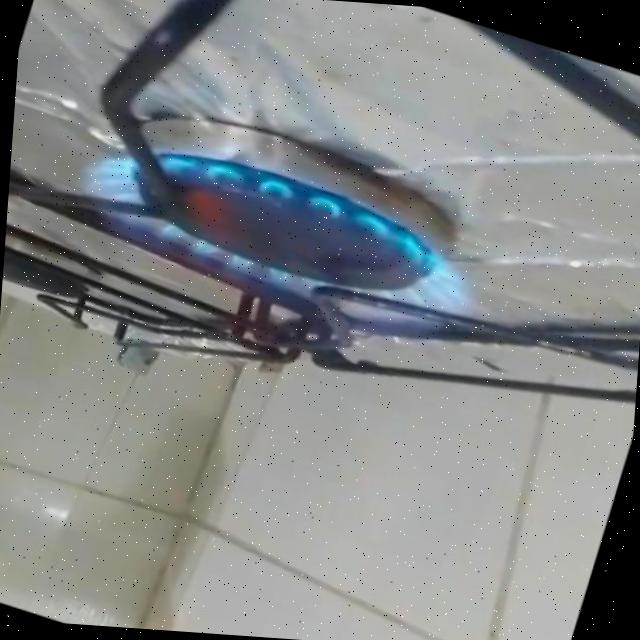fire: (45, 109, 509, 370)
